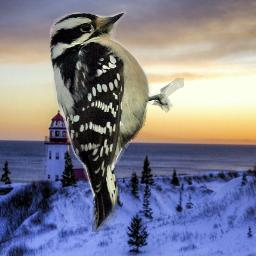Woodpecker: (46, 7, 184, 232)
